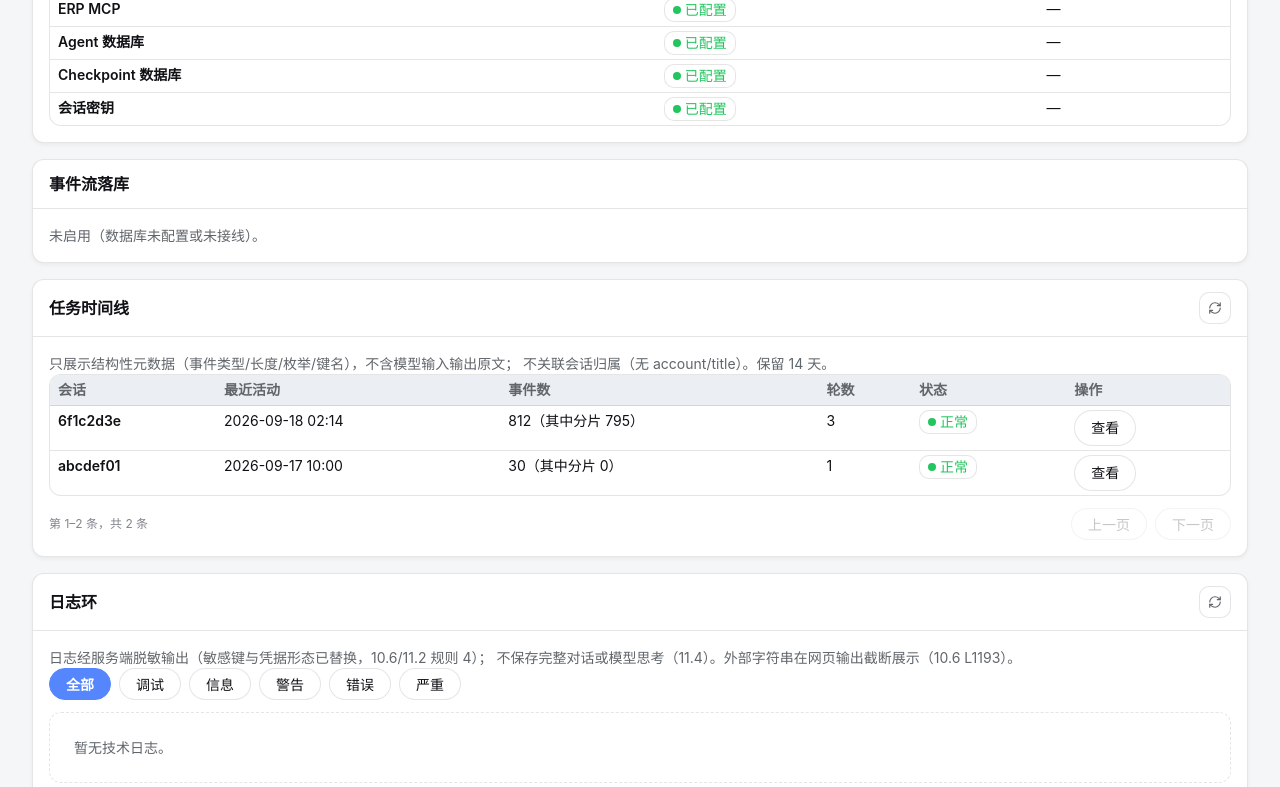
StreamTimelinePanel 任务时间线 › 30c suppressed_reason 四个枚举值全部映射为中文，原串不上屏
(page scrolled)
Click the button "查看" in the row of "6f1c2d3e".
click(1105, 428)  # box [1074,410,1136,446]
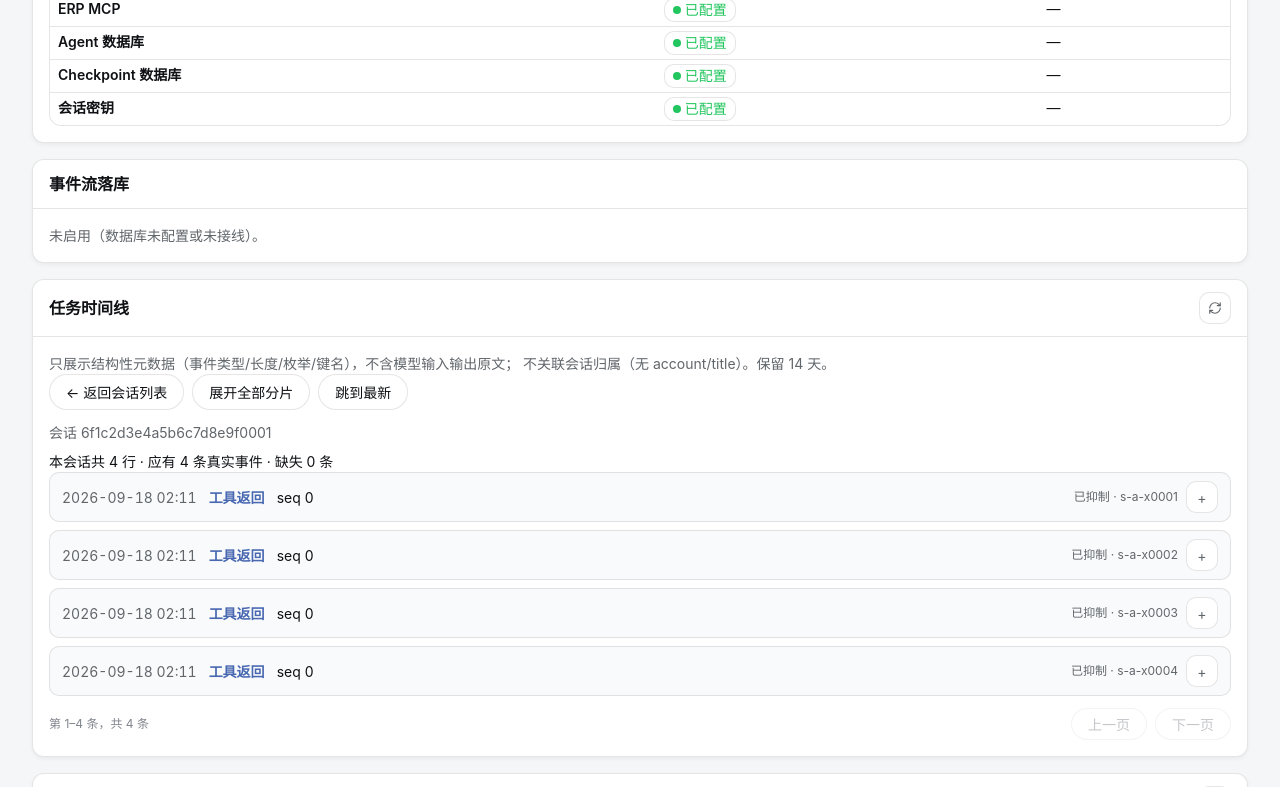
Expected: the button "← 返回会话列表" is shown, [49,374,184,410]
Expected: the number of buttons named "展开事件明细" is 4
Click the button named "展开事件明细".
click(1202, 497)  # box [1186,481,1218,513]
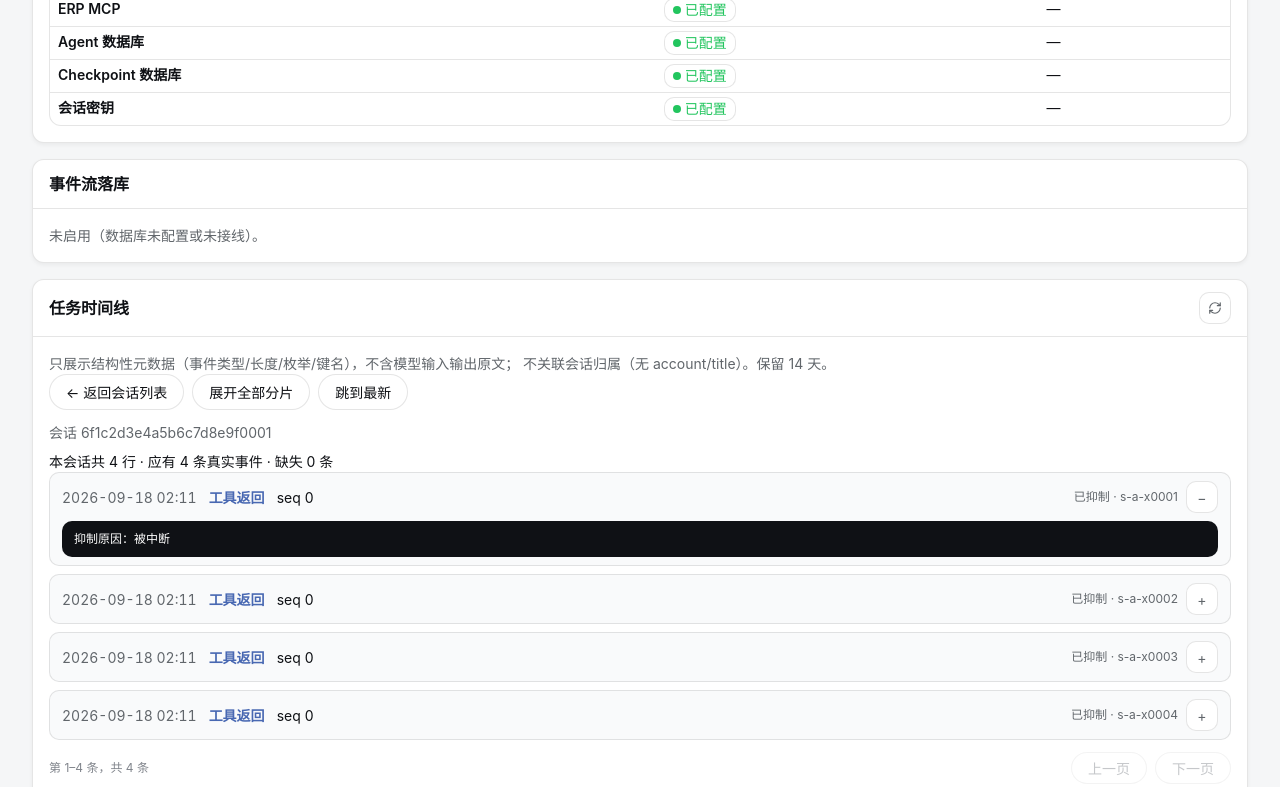
Expected: the text "抑制原因：被中断" is shown, [74,532,170,546]
Click the button named "展开事件明细".
click(1202, 599)  # box [1186,583,1218,615]
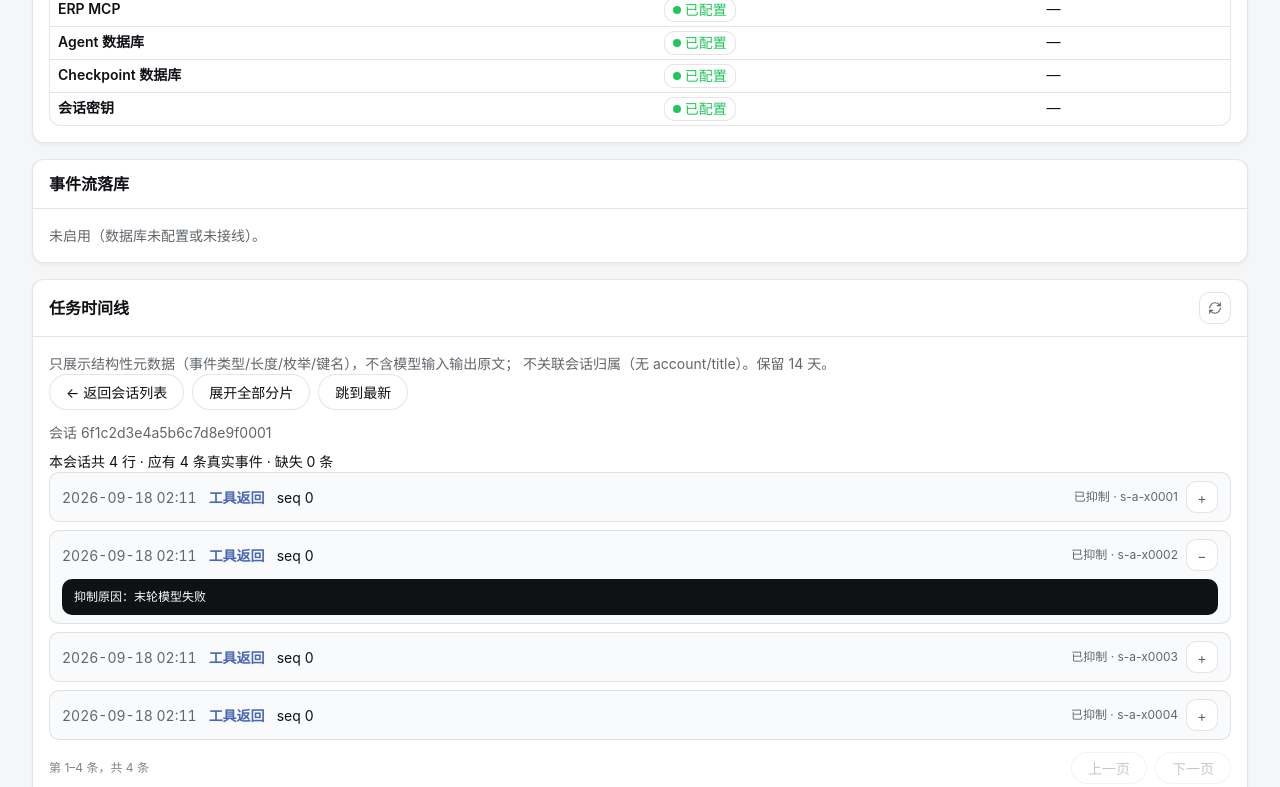
Expected: the text "抑制原因：末轮模型失败" is shown, [74,590,206,604]
Click the button named "展开事件明细".
click(1202, 657)  # box [1186,641,1218,673]
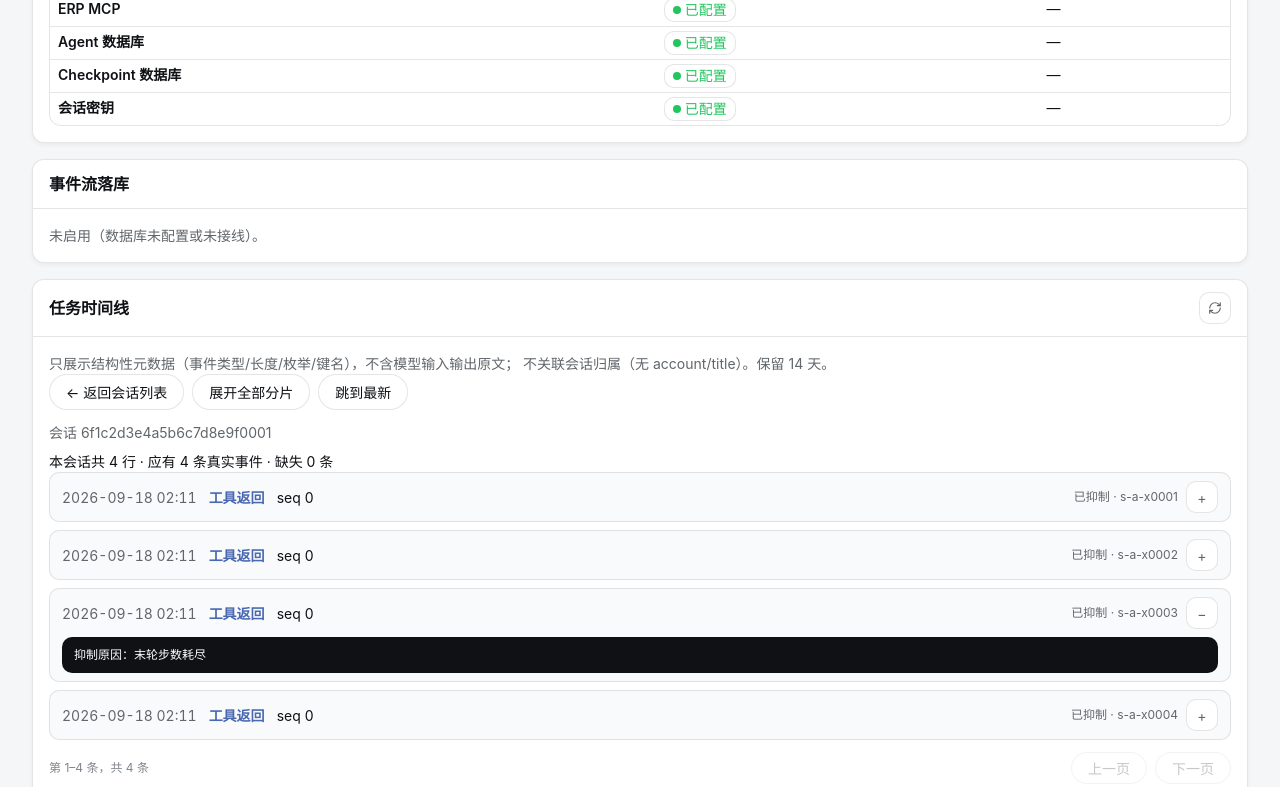
Expected: the text "抑制原因：末轮步数耗尽" is shown, [74,648,206,662]
Click the button named "展开事件明细".
click(1202, 715)  # box [1186,699,1218,731]
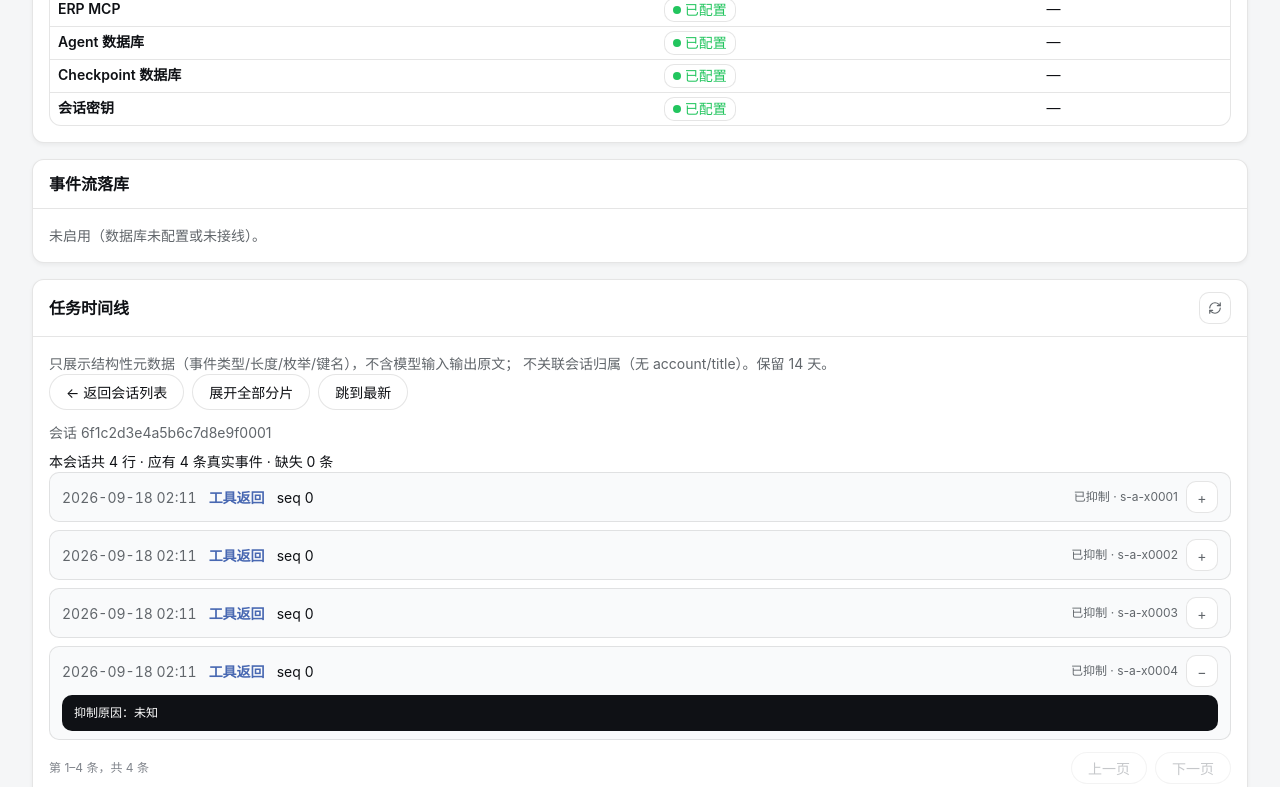
Expected: the text "抑制原因：未知" is shown, [74,706,158,720]
